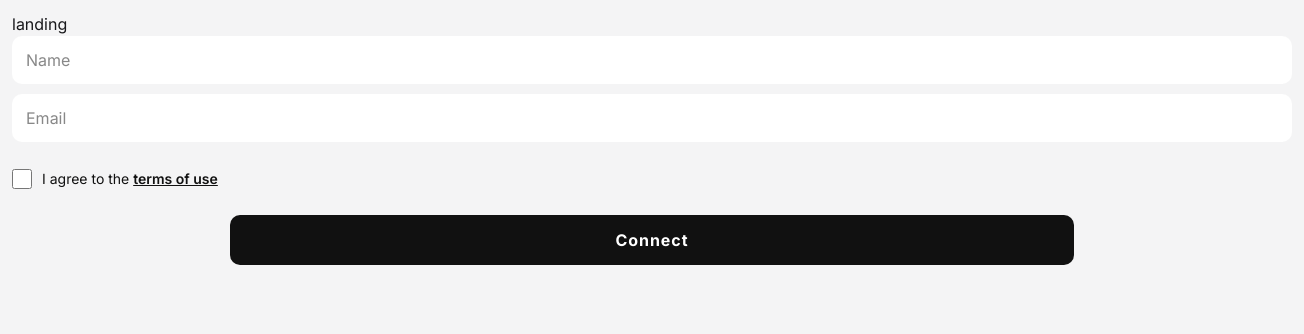
Test: Form edit-mode Connect › with empty inputs, selects the button and shows Error
Click the button "Connect". click: (652, 240)
box: [230, 215, 1074, 265]
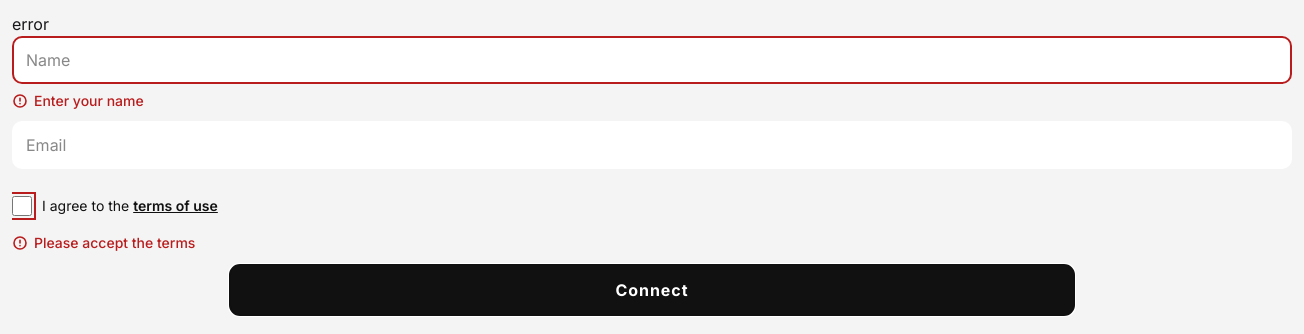
Check: the text with test id "screen" reads "error", box [12, 14, 49, 34]
Check: the message reads "Enter your name", box [34, 92, 144, 109]
